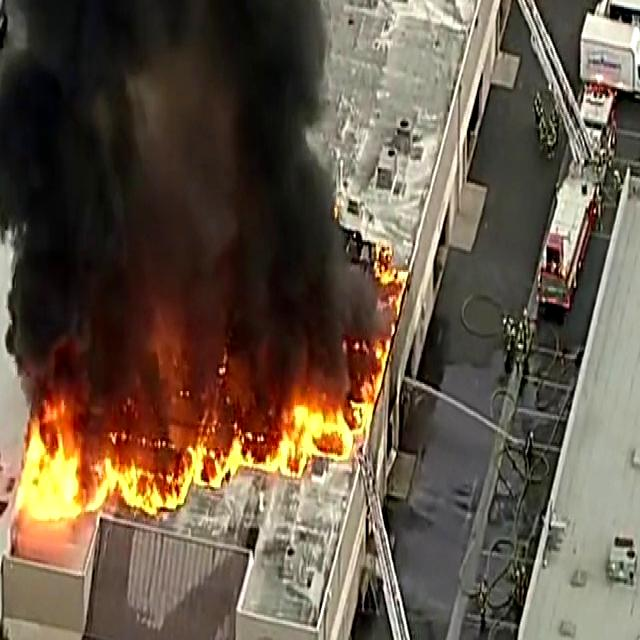fire: (87, 424, 257, 524), (274, 412, 362, 498), (30, 428, 98, 524)
smoke: (193, 0, 371, 391), (0, 32, 126, 364)
